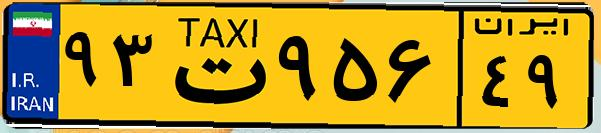3: (110, 28, 158, 98)
4: (475, 38, 525, 113)
5: (330, 28, 385, 110)
6: (385, 28, 445, 110)
9: (270, 28, 330, 110), (57, 26, 110, 100), (525, 38, 570, 115)
ت: (158, 12, 270, 120)
